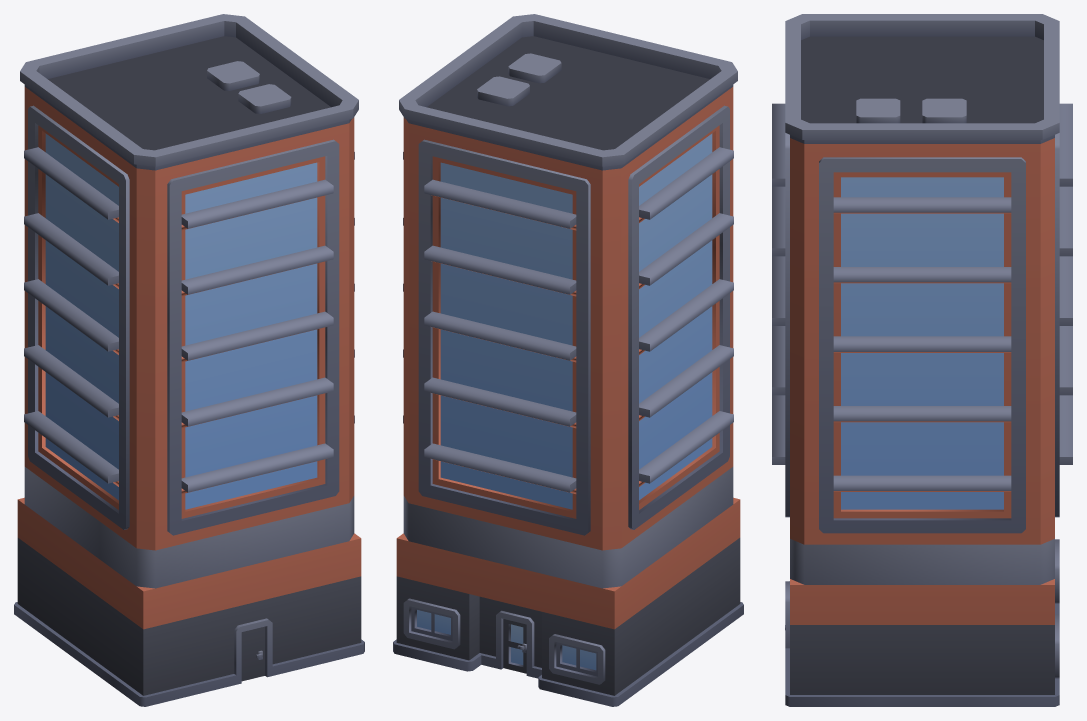
The model's file is building-skyscraper-a-b.glb.
3 renders of one model, left to right at view 1: azimuth 30°, elevation 25°; view 2: azimuth 150°, elevation 25°; view 3: azimuth 270°, elevation 25°, orthographic. The views are drawn at different scales.
Visible parts, largest first — view 1: building-skyscraper-a; view 2: building-skyscraper-a; view 3: building-skyscraper-a.
Part boxes in pixels (x1,y1,x2,y2): building-skyscraper-a: (14,14,364,706); building-skyscraper-a: (393,14,743,706); building-skyscraper-a: (772,14,1072,706).
Size of the model in its own units: 1.36 by 2.88 by 1.36.
1 material, 1 textured.
